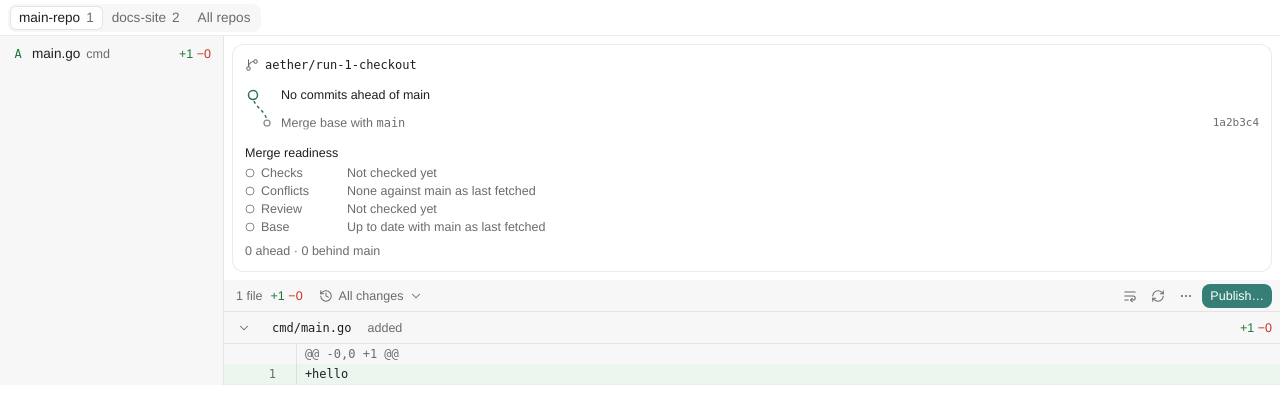
Scenario: lists the repos with their file counts and reads a repo's changes through the repo param
Expected: the element named "cmd/main.go" is shown, [224, 312, 1279, 385]
Press the mouse on the 2nd tab at x=146, y=18, box [104, 6, 188, 28]
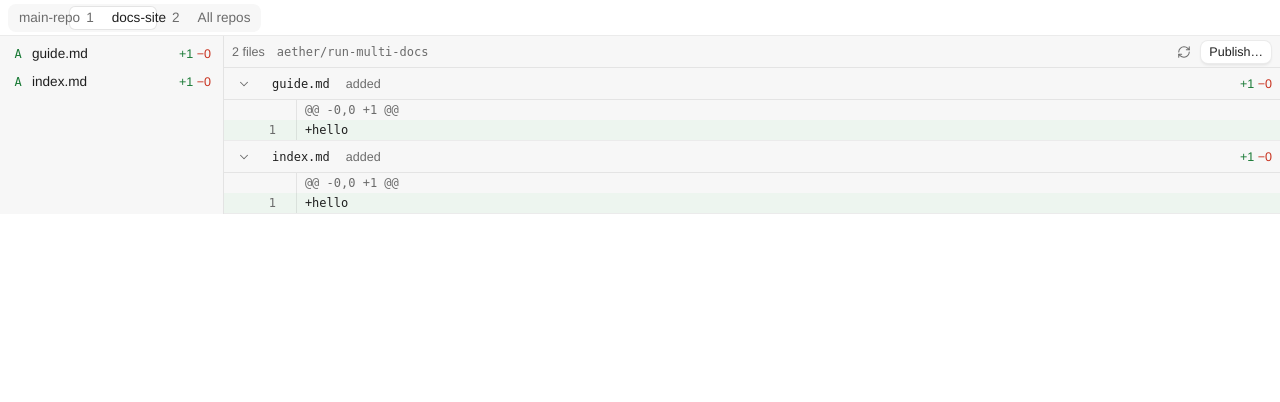
Expected: the element "cmd/main.go" is not shown
Now the element named "guide.md" is shown, box [224, 68, 1279, 141]
